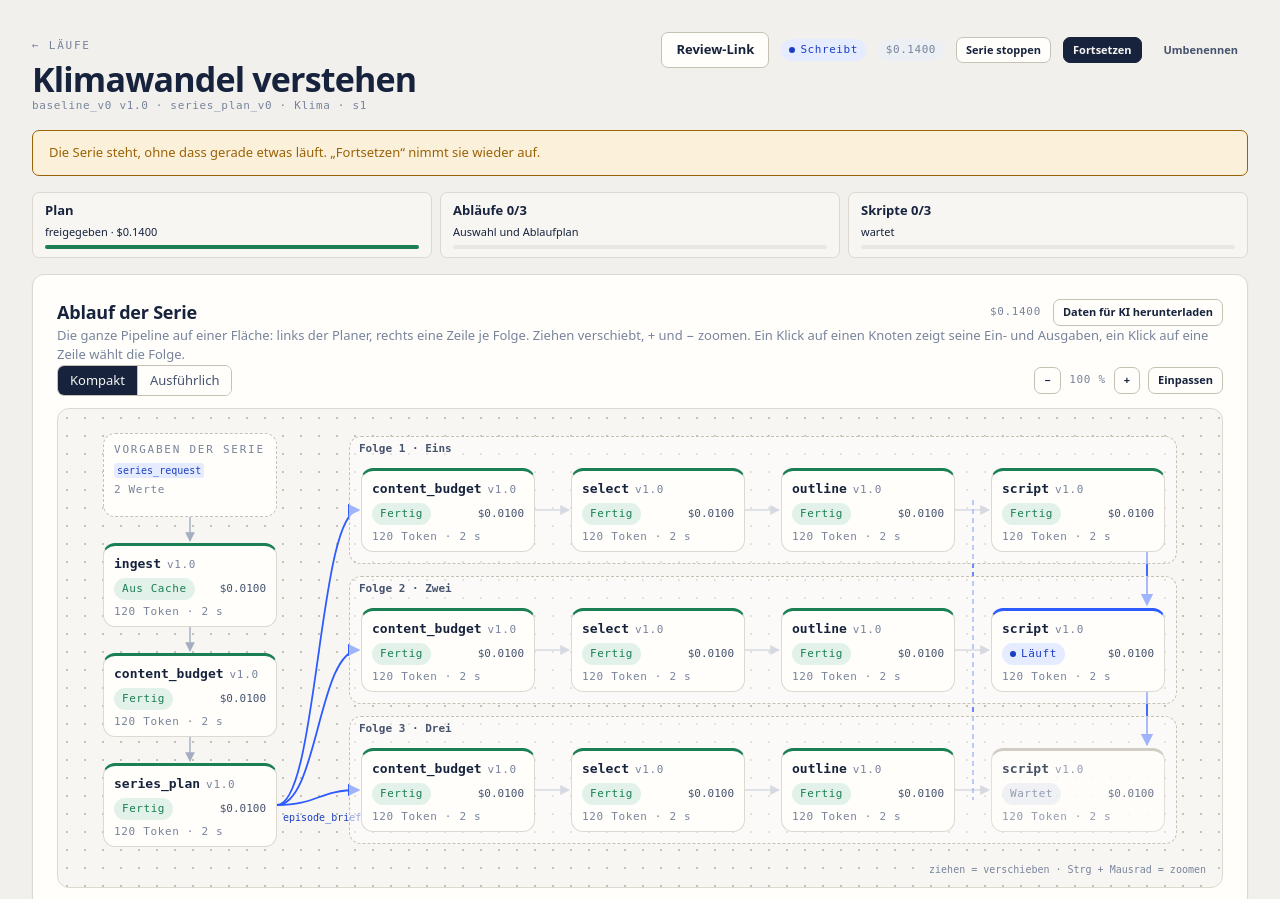
it: series view › asks in the page before stopping a series that is still writing
The image size is (1280, 899).
Click the button "Serie stoppen": (1004, 50) top-left (956, 36), bottom-right (1051, 63)
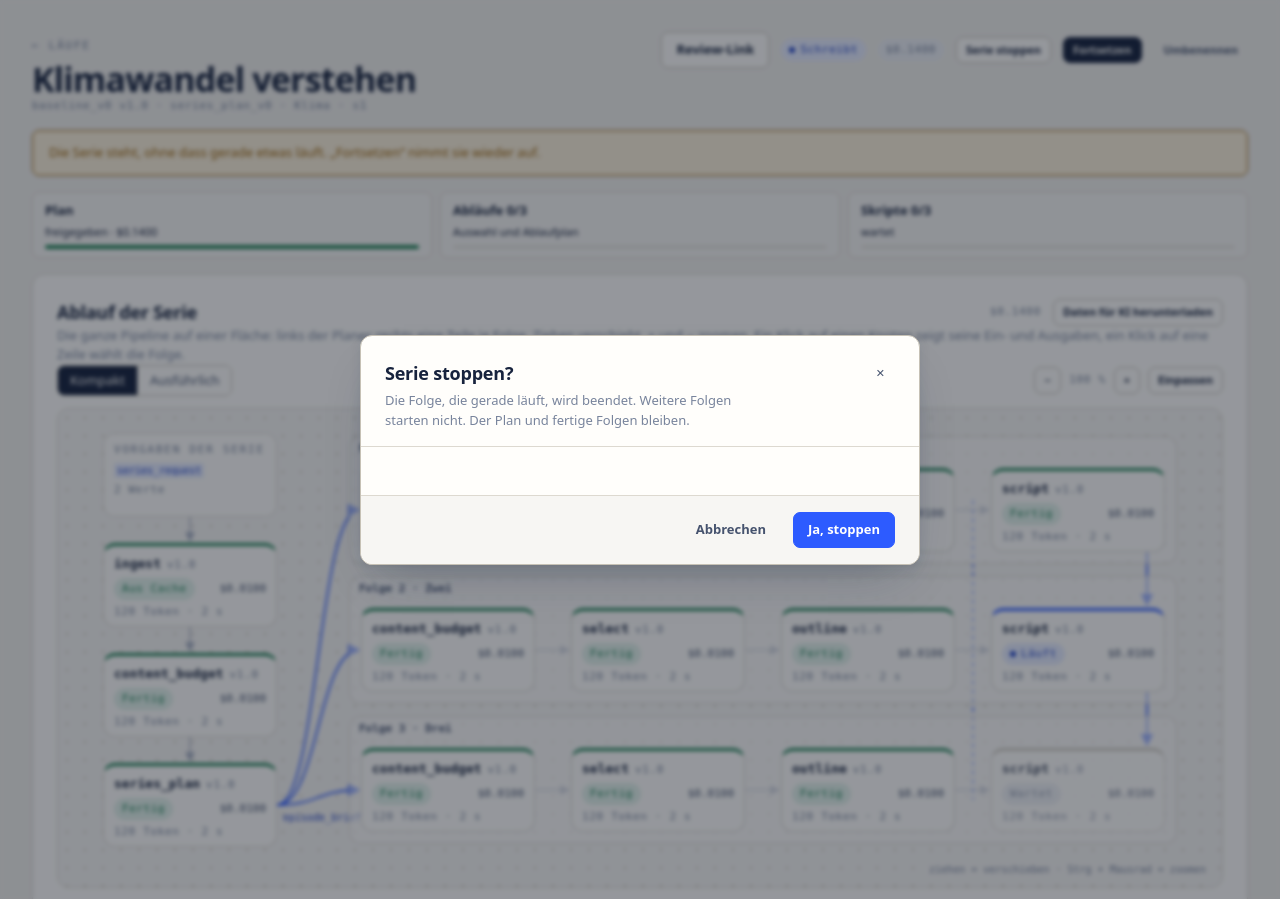
Click the button "Ja, stoppen": (844, 530) top-left (793, 512), bottom-right (895, 548)
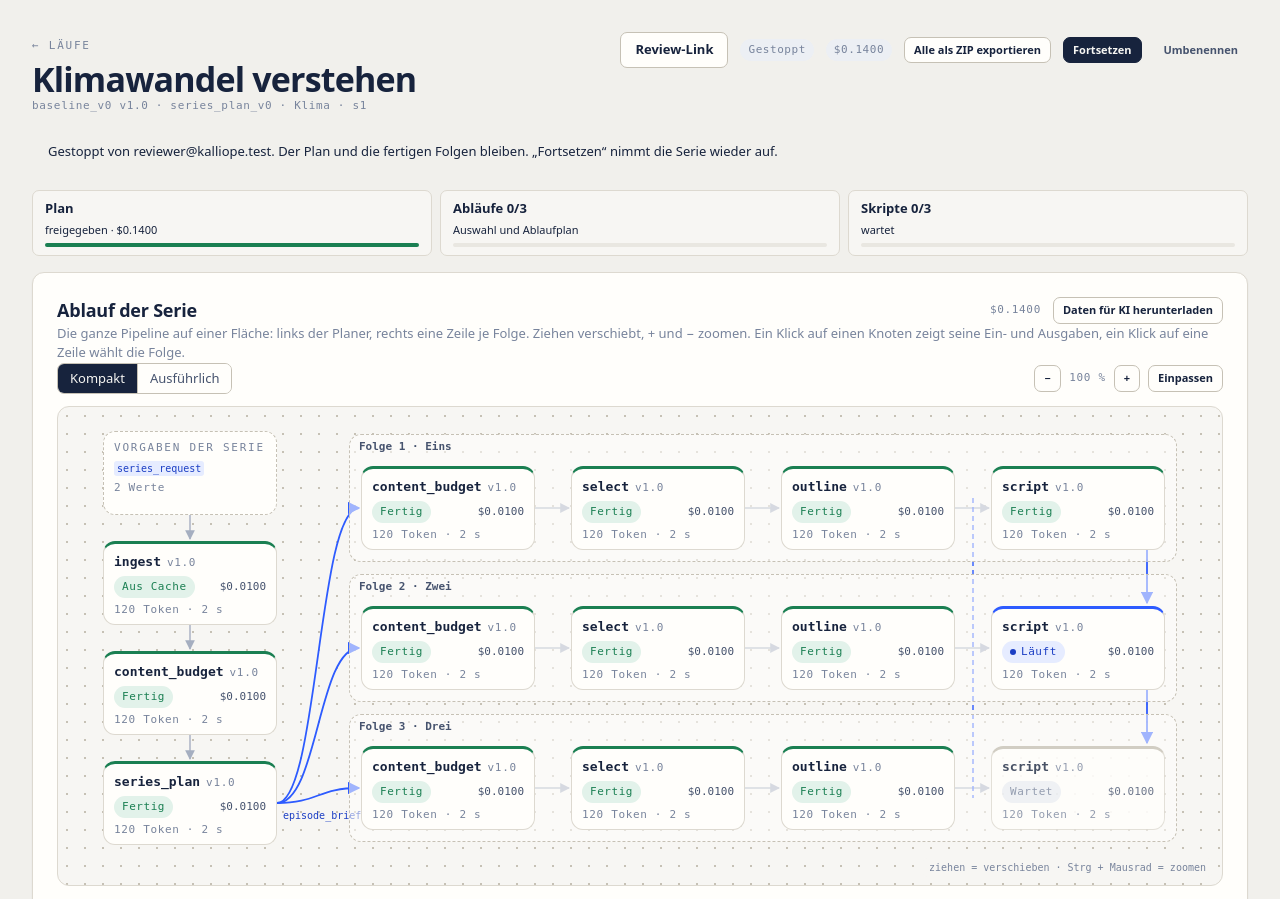
Check: the text "Gestoppt" is shown, box top-left (740, 38), bottom-right (814, 61)
